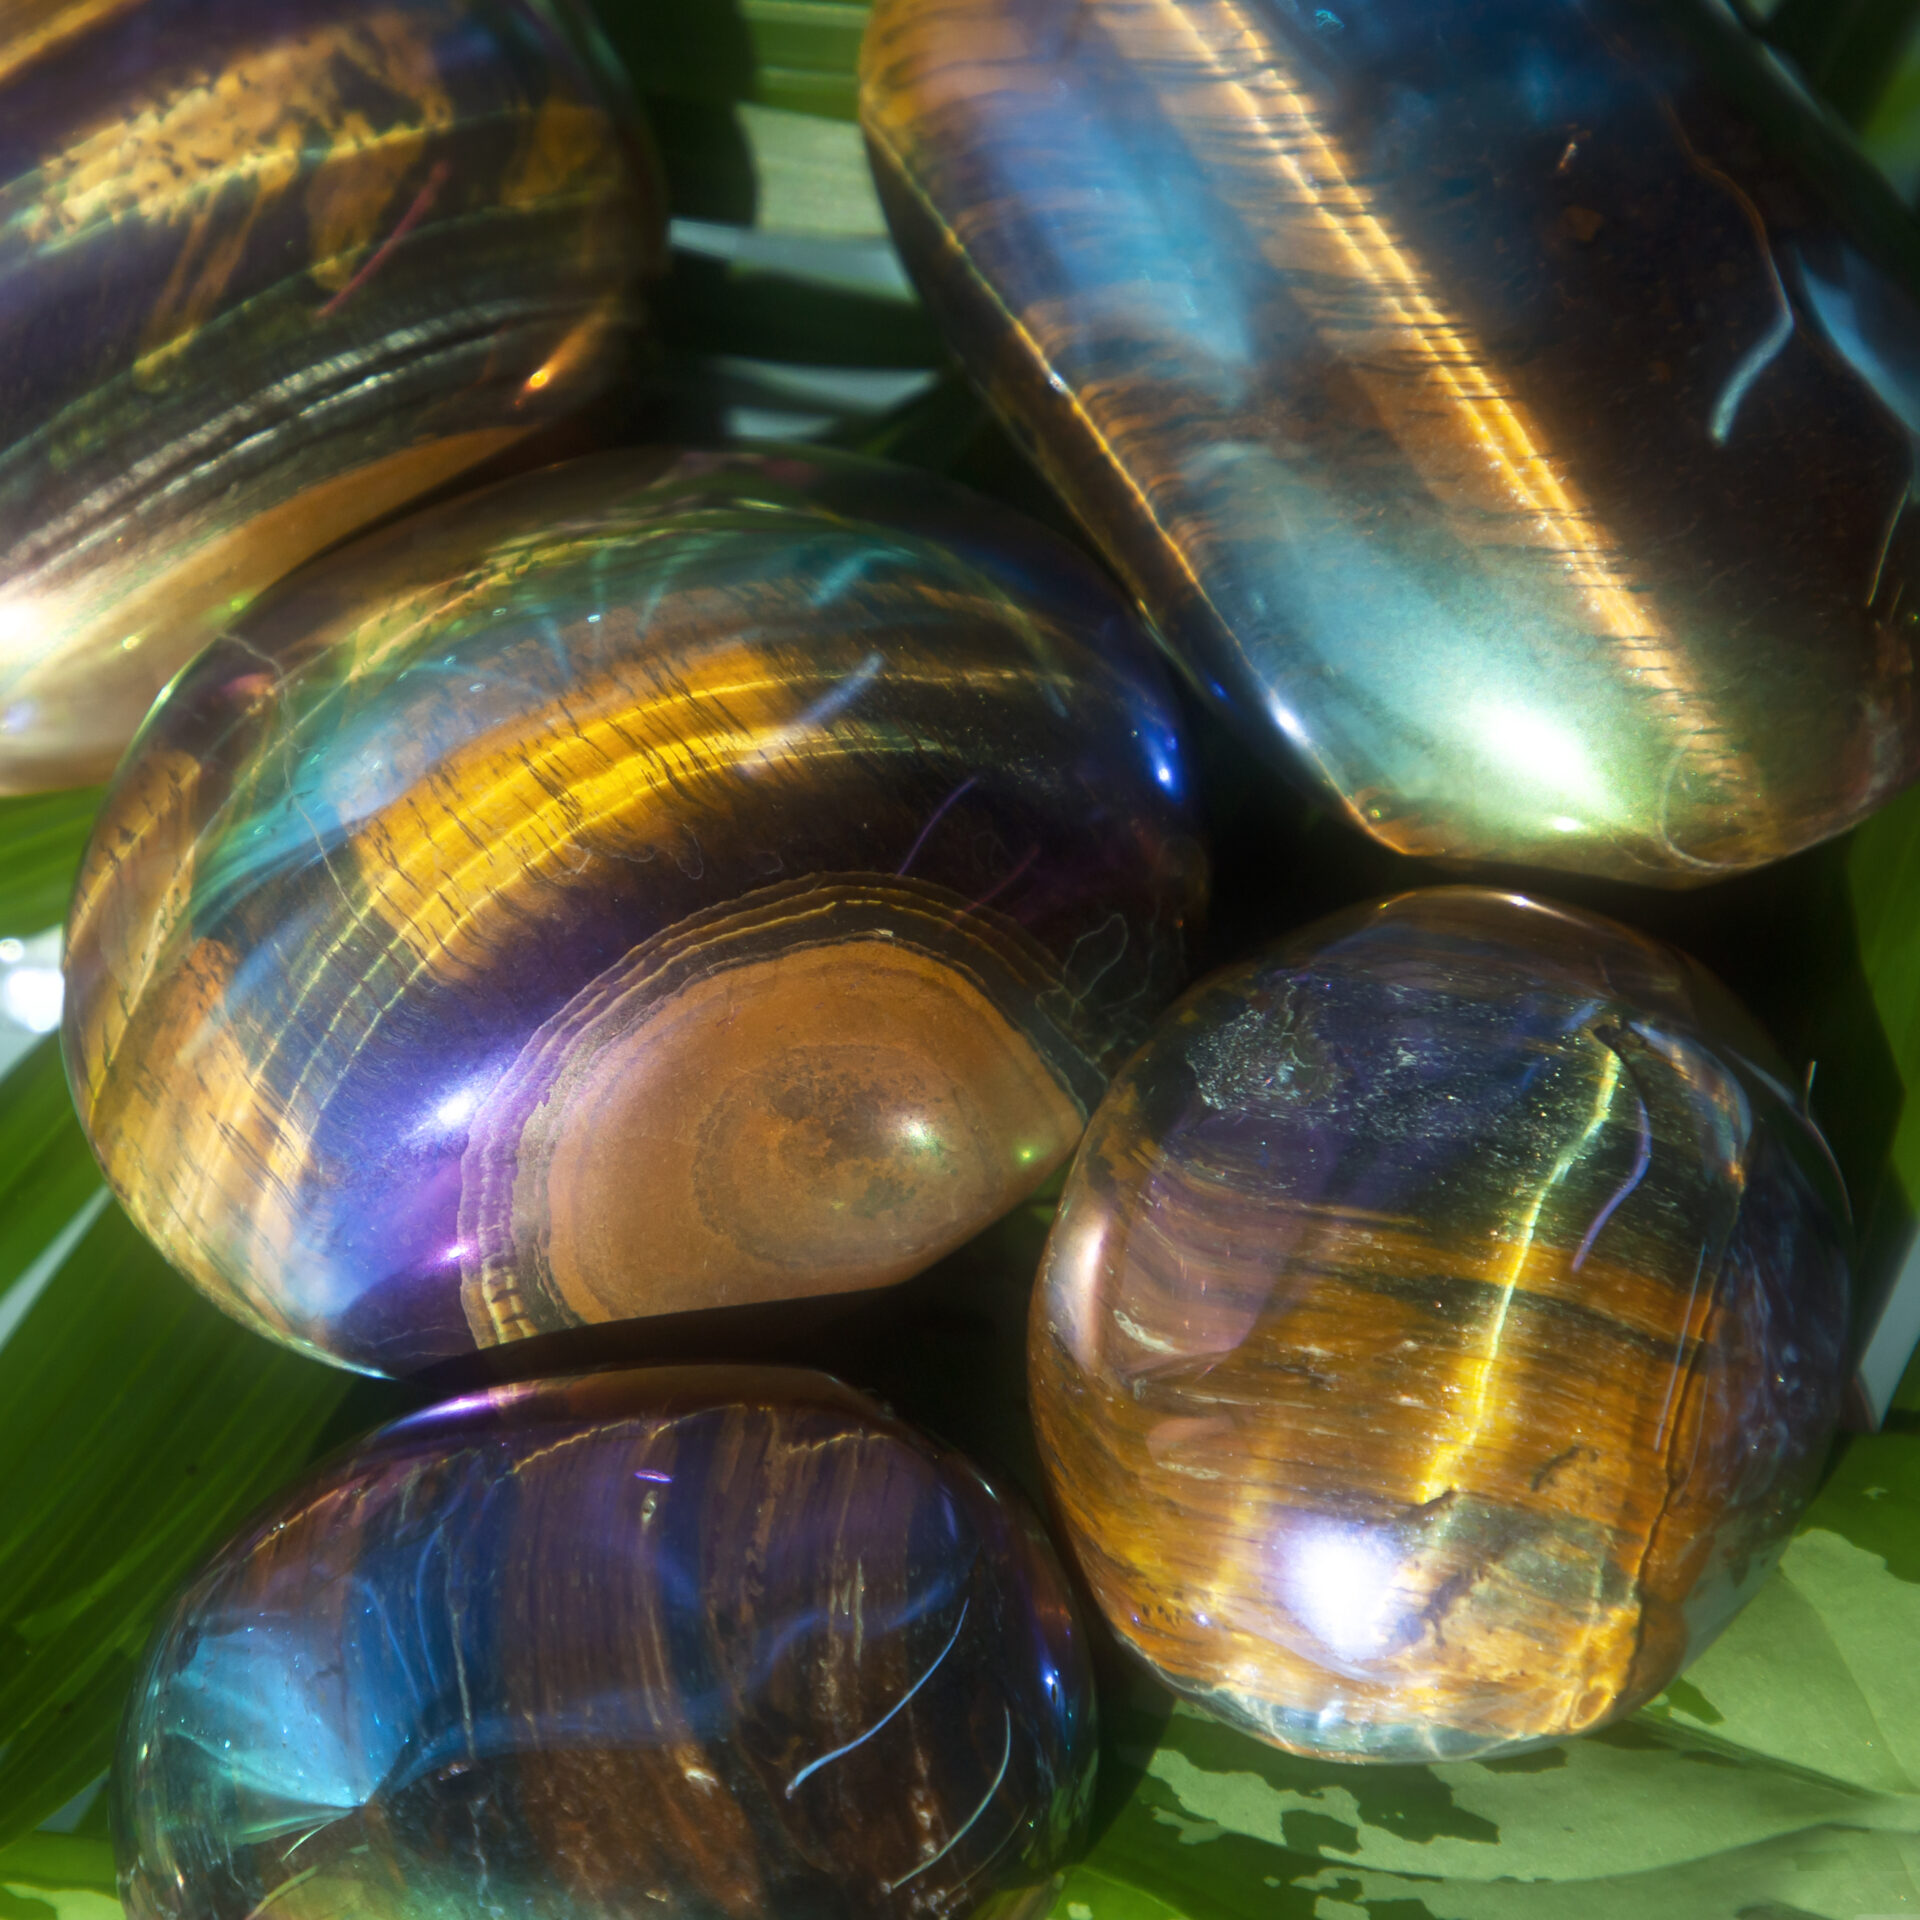Tigers_Eye: (1036, 851, 1909, 1778), (125, 1350, 1097, 1909)
